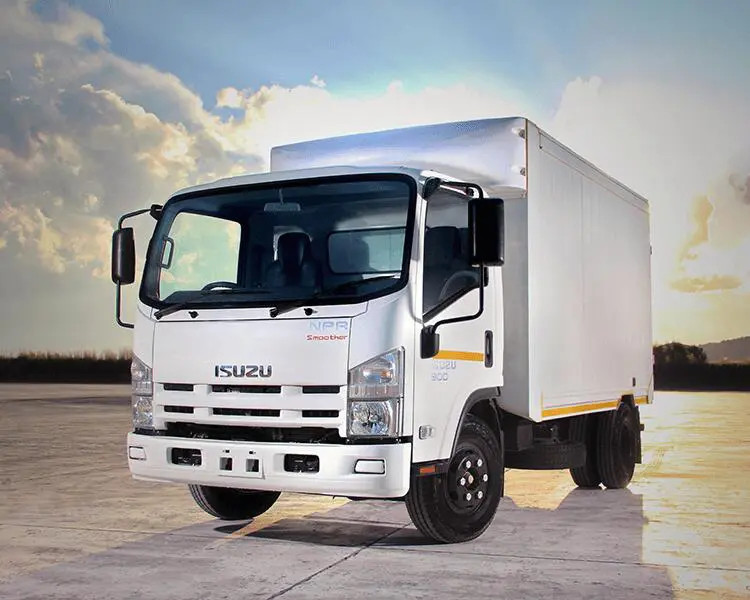truck: (110, 115, 656, 546)
